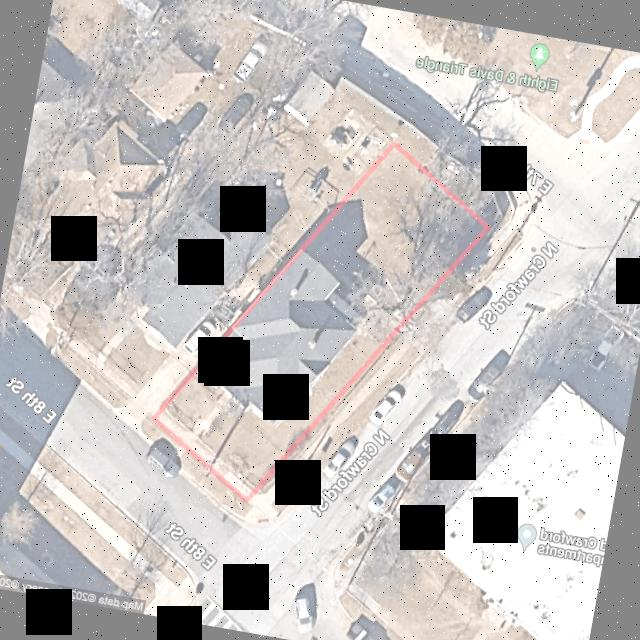Driveway: (188, 392, 233, 437)
Extra Driveway: (150, 434, 184, 460)
Extra Lawn: (273, 245, 508, 514), (180, 451, 243, 510), (397, 123, 436, 162), (139, 423, 163, 439), (494, 188, 505, 205)
Extra Sidewalk: (249, 231, 504, 514), (505, 170, 521, 194)
House: (204, 248, 357, 427)
Sidewalk: (160, 408, 249, 497)
